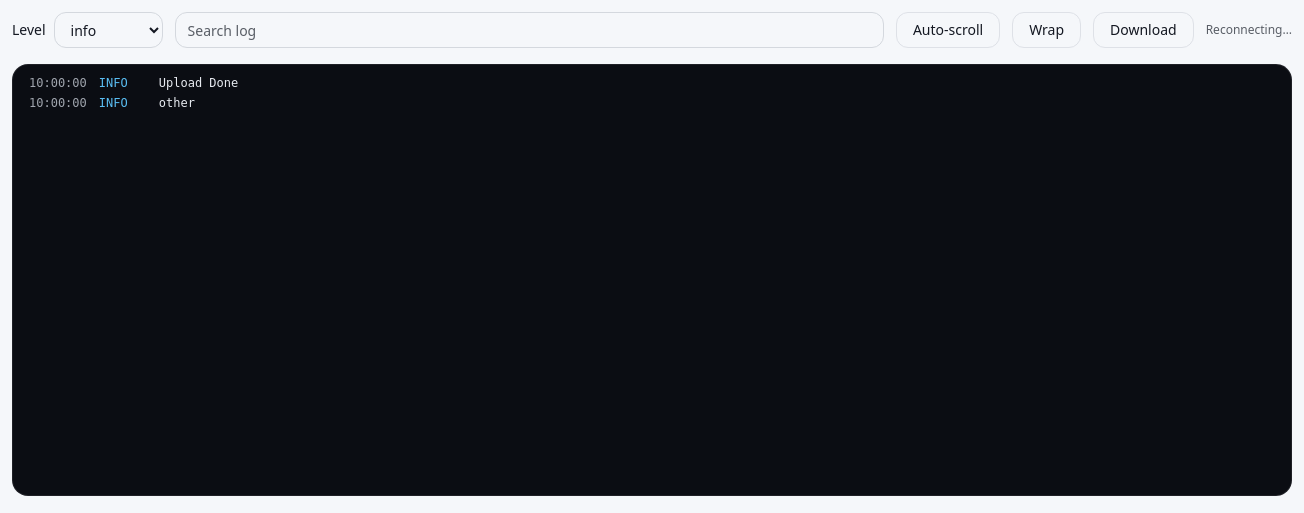
Test: LogViewer › search is case-insensitive and highlights
Expected: the text "other" is shown, [159,96,195,110]
Type "upLOAD" into the search field labelled "Search log" at x=529, y=30, box [175,12,884,48]
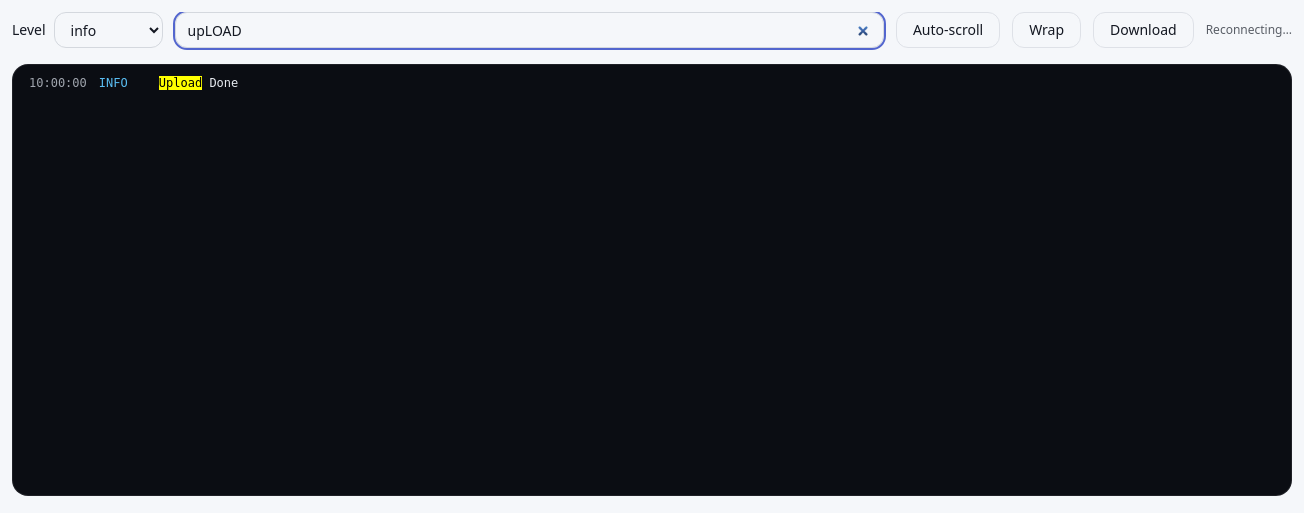
Expected: the text "Upload" is shown, [159,76,202,90]
Expected: the text "other" is gone
